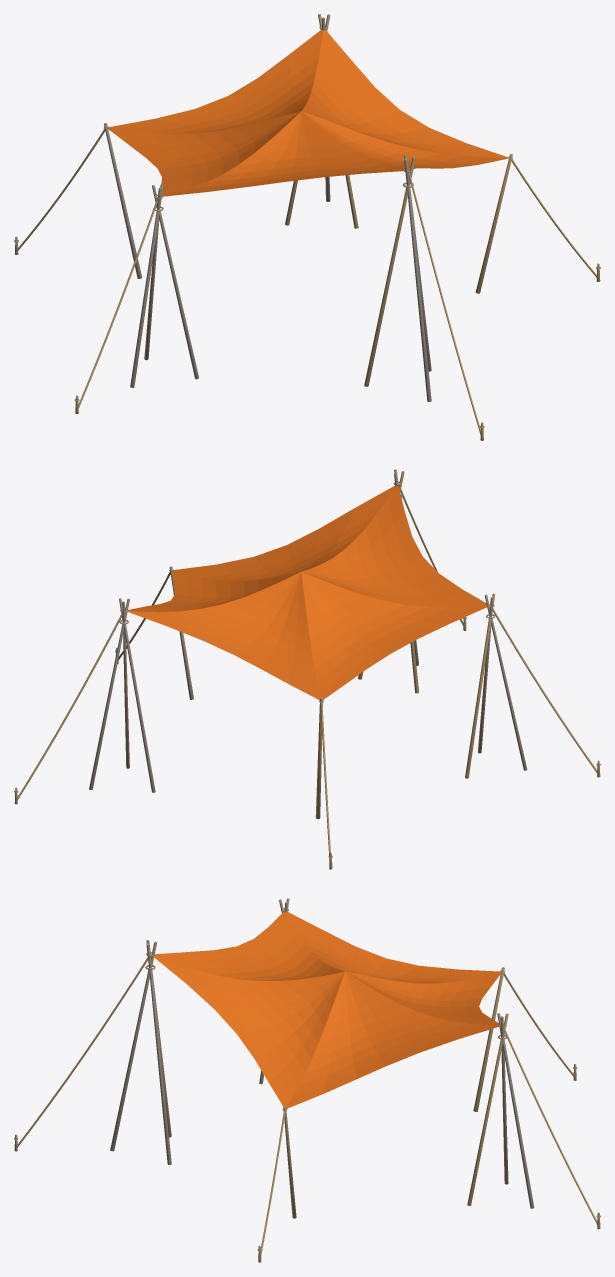
The model's file is nomad_sail_penta.fbx.
3 renders of one model, top to bottom at view 1: azimuth 30°, elevation 25°; view 2: azimuth 150°, elevation 25°; view 3: azimuth 270°, elevation 25°, orthographic. The views are drawn at different scales.
Parts seen in each view (by area): view 1: S05_Canopy, S05_Mast_SailRig_MastTripod, S05_Mast4_SailRig_MastTripod, S05_Mast2_SailRig_MastTripod, S05_Mast3_SailRig_MastPole, S05_Guy, S05_Mast1_SailRig_MastPole, S05_Guy4; view 2: S05_Canopy, S05_Mast2_SailRig_MastTripod, S05_Mast4_SailRig_MastTripod, S05_Guy2; view 3: S05_Canopy, S05_Mast2_SailRig_MastTripod, S05_Mast_SailRig_MastTripod, S05_Mast3_SailRig_MastPole, S05_Guy, S05_Guy2.
Part boxes in pixels (x1,y1,x2,y2): S05_Canopy: (108,29,508,196); S05_Mast_SailRig_MastTripod: (364,155,431,401); S05_Mast4_SailRig_MastTripod: (130,184,198,387); S05_Mast2_SailRig_MastTripod: (285,14,358,228); S05_Mast3_SailRig_MastPole: (103,123,141,278); S05_Guy: (408,170,480,434); S05_Mast1_SailRig_MastPole: (475,154,513,293); S05_Guy4: (78,197,157,408); S05_Canopy: (127,485,489,699); S05_Mast2_SailRig_MastTripod: (89,598,155,792); S05_Mast4_SailRig_MastTripod: (465,593,527,778); S05_Guy2: (17,612,122,799); S05_Canopy: (151,912,501,1108); S05_Mast2_SailRig_MastTripod: (467,1013,534,1208); S05_Mast_SailRig_MastTripod: (110,940,171,1164); S05_Mast3_SailRig_MastPole: (473,967,504,1111); S05_Guy: (17,954,150,1147); S05_Guy2: (504,1027,597,1224).
Bounding box in the file's own units: 889 × 369 × 935.
